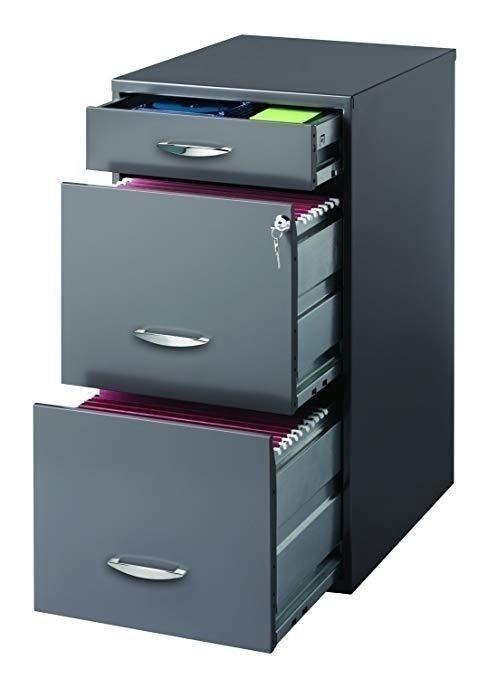Filing Cabinet: (31, 32, 456, 653)
